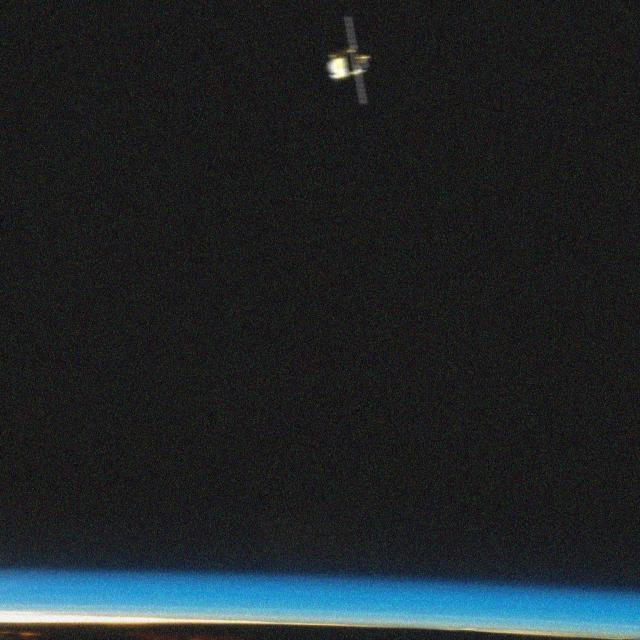satellite: (319, 7, 389, 122)
